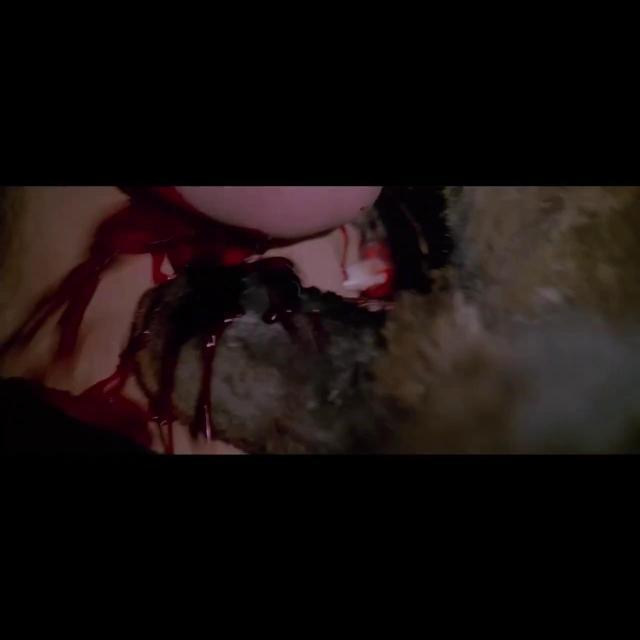blood: (0, 188, 329, 454), (344, 241, 392, 298)
